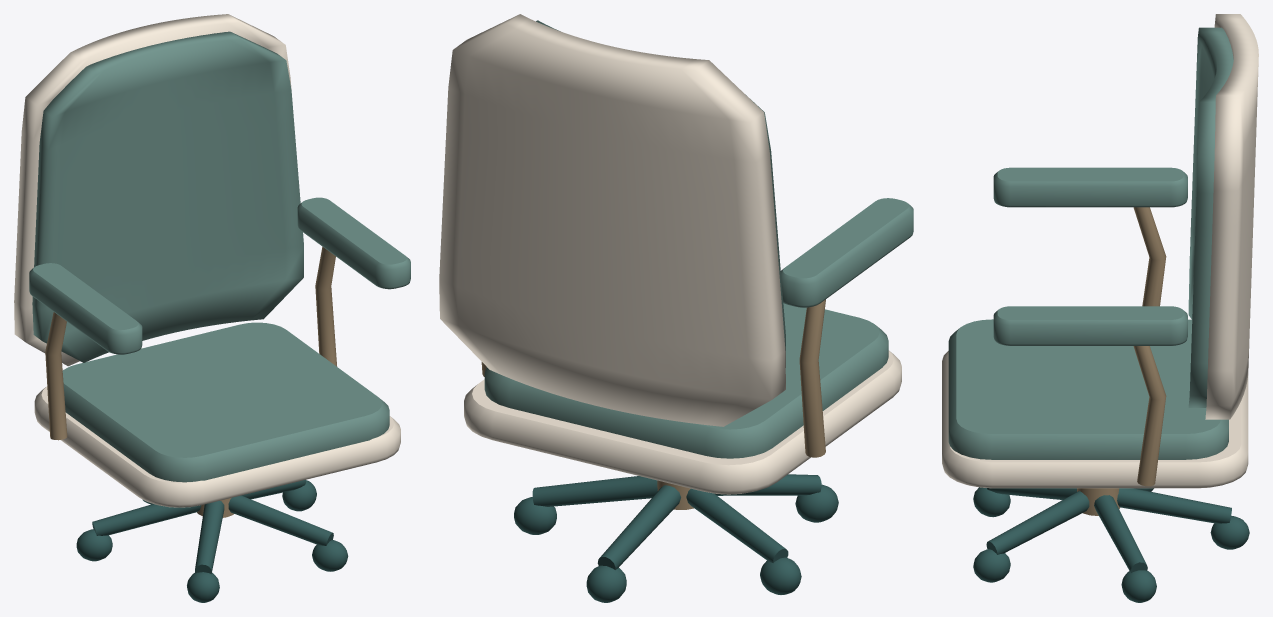
Rendered from patient-chair.glb.
The picture shows the model from 3 angles, left to right: view 1: azimuth 30°, elevation 25°; view 2: azimuth 150°, elevation 25°; view 3: azimuth 270°, elevation 25°; orthographic projection. The views are drawn at different scales.
Parts seen in each view (by area): view 1: patient-chair; view 2: patient-chair; view 3: patient-chair.
Boxes of the visible parts, x1,y1,x2,y2 form: patient-chair: (14,14,410,602); patient-chair: (439,14,913,602); patient-chair: (942,14,1258,602).
Size of the model in its own units: 0.565 by 0.835 by 0.486.
